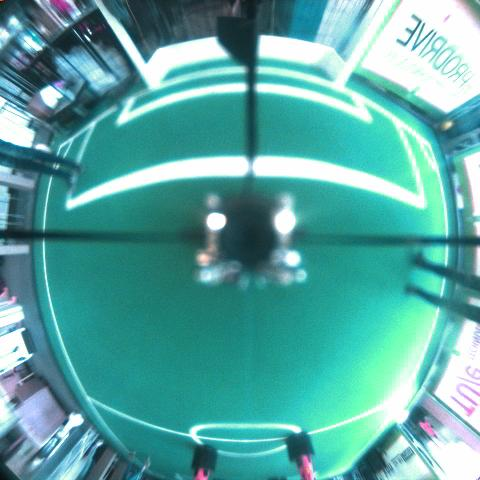ball: (34, 144, 51, 158), (440, 121, 454, 131)
goal: (334, 0, 401, 87), (94, 1, 159, 90)
person: (0, 139, 80, 194), (410, 249, 479, 292), (403, 284, 479, 323), (121, 451, 150, 479)
robot: (286, 433, 315, 479), (409, 407, 439, 439), (192, 444, 217, 479)
